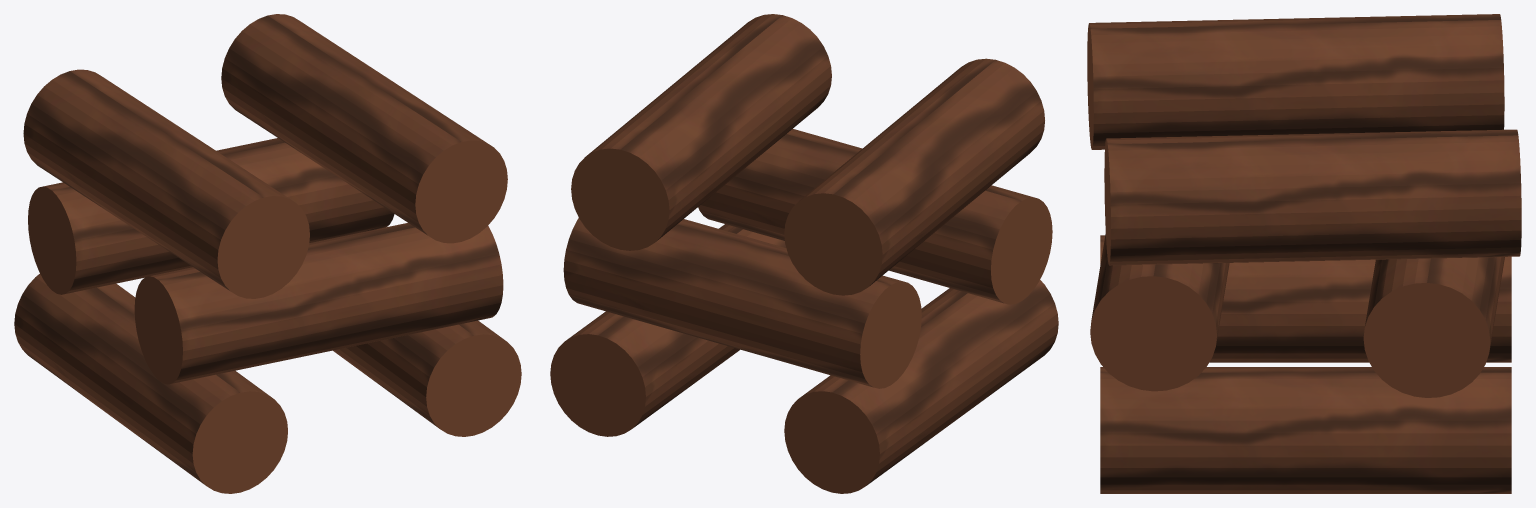
File: campfire.glb
The picture shows the model from 3 angles, left to right: view 1: azimuth 30°, elevation 25°; view 2: azimuth 150°, elevation 25°; view 3: azimuth 270°, elevation 25°; orthographic projection. The views are drawn at different scales.
Parts seen in each view (by area): view 1: Cylinder.003, Cylinder.004, Cylinder.005, Cylinder, Cylinder.002, Cylinder.001; view 2: Cylinder.002, Cylinder.004, Cylinder.005, Cylinder, Cylinder.003, Cylinder.001; view 3: Cylinder.005, Cylinder.004, Cylinder.001, Cylinder, Cylinder.002, Cylinder.003.
Part boxes in pixels (<box>): Cylinder.003: <box>134,223,503,384</box>; Cylinder.004: <box>23,69,309,298</box>; Cylinder.005: <box>221,14,507,243</box>; Cylinder: <box>14,274,287,493</box>; Cylinder.002: <box>28,138,394,294</box>; Cylinder.001: <box>333,320,521,436</box>; Cylinder.002: <box>563,218,921,388</box>; Cylinder.004: <box>784,58,1044,295</box>; Cylinder.005: <box>571,14,831,250</box>; Cylinder: <box>784,280,1058,493</box>; Cylinder.003: <box>698,129,1052,304</box>; Cylinder.001: <box>550,224,786,436</box>; Cylinder.005: <box>1104,129,1521,265</box>; Cylinder.004: <box>1087,14,1504,149</box>; Cylinder.001: <box>1100,367,1511,493</box>; Cylinder: <box>1100,235,1511,362</box>; Cylinder.002: <box>1363,257,1504,397</box>; Cylinder.003: <box>1090,233,1229,391</box>.
Size of the model in its own units: 0.518 by 0.4393 by 0.5109.
Materials: 1 (1 with a texture image).
